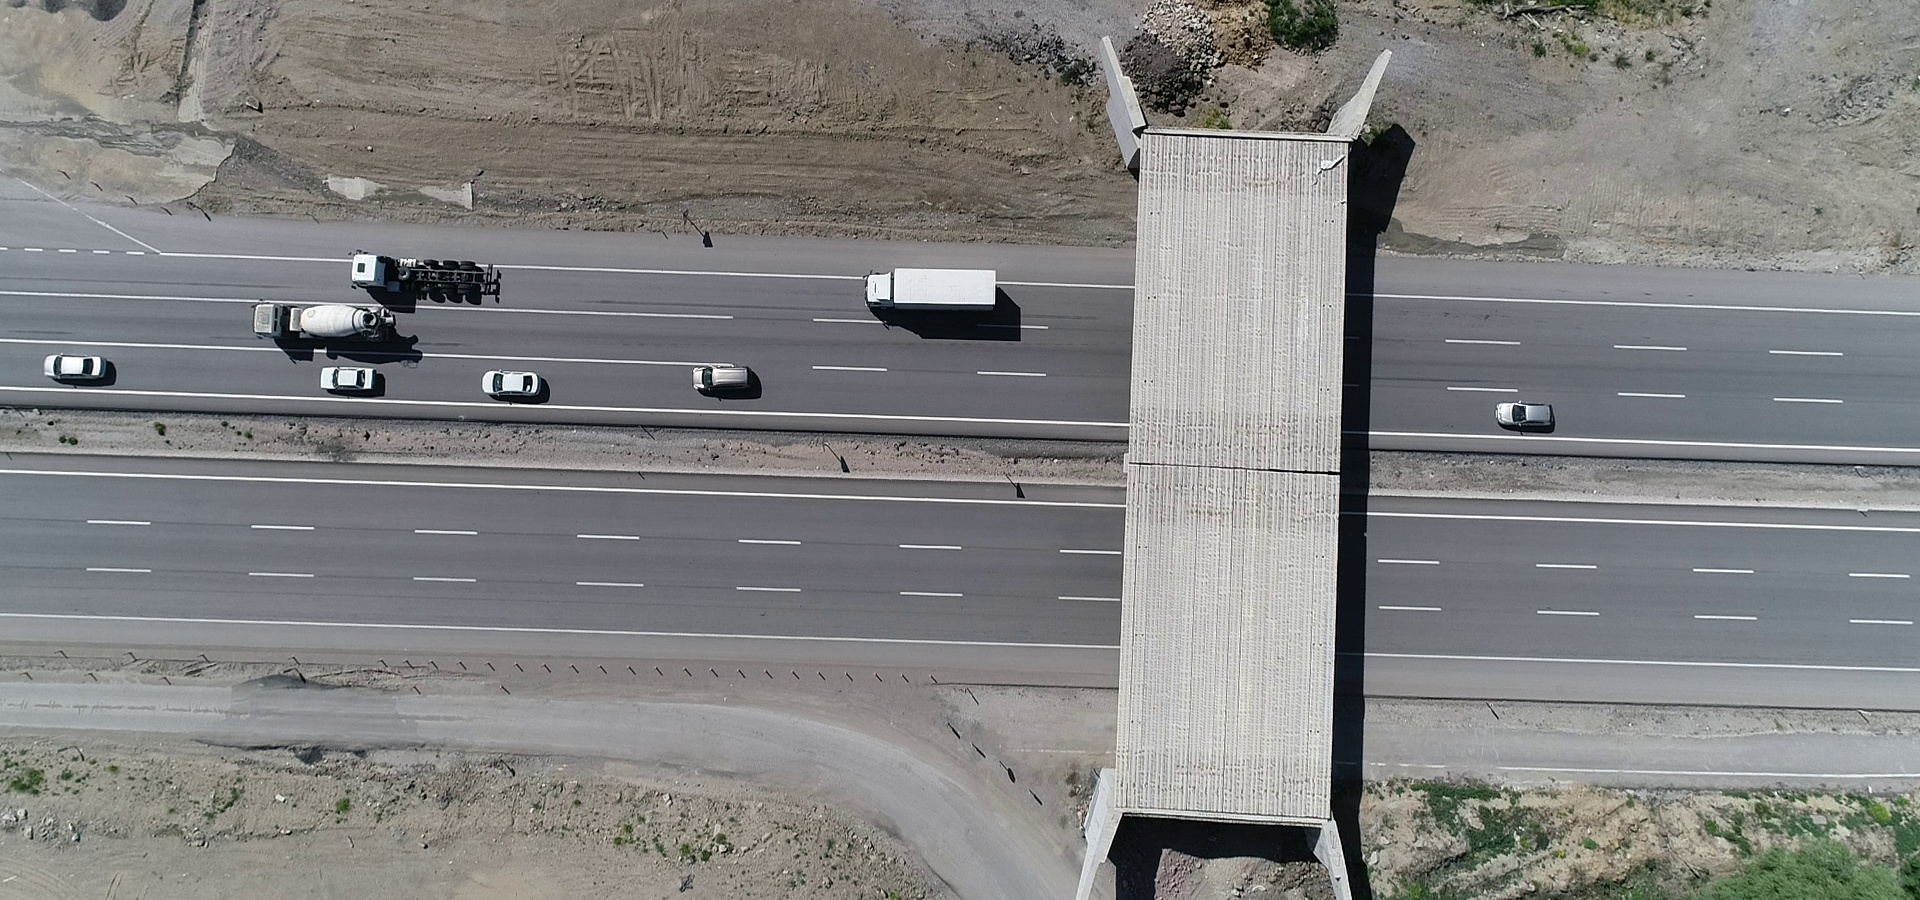arac: (344, 253, 516, 304), (858, 262, 1007, 320), (250, 299, 416, 345), (689, 362, 782, 403), (40, 349, 121, 384), (323, 358, 407, 392), (1487, 396, 1567, 429), (489, 362, 551, 404)
